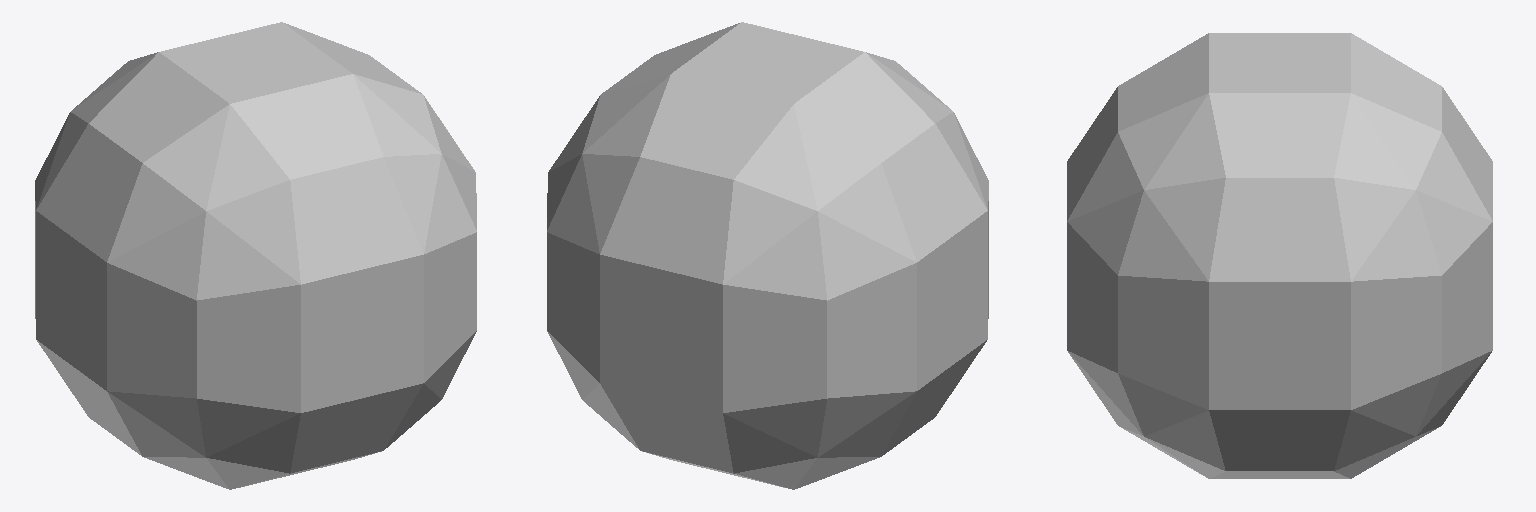
File: midsphere.obj
The picture shows the model from 3 angles: view 1: azimuth 30°, elevation 25°; view 2: azimuth 150°, elevation 25°; view 3: azimuth 270°, elevation 25°; orthographic projection.
Bounding box in the file's own units: 0.0909 × 0.0909 × 0.0909.